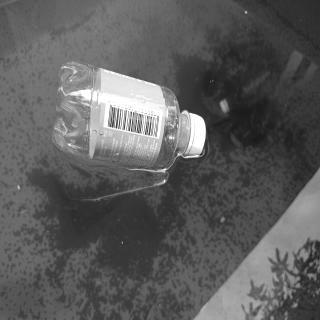bottle: (51, 59, 208, 174)
